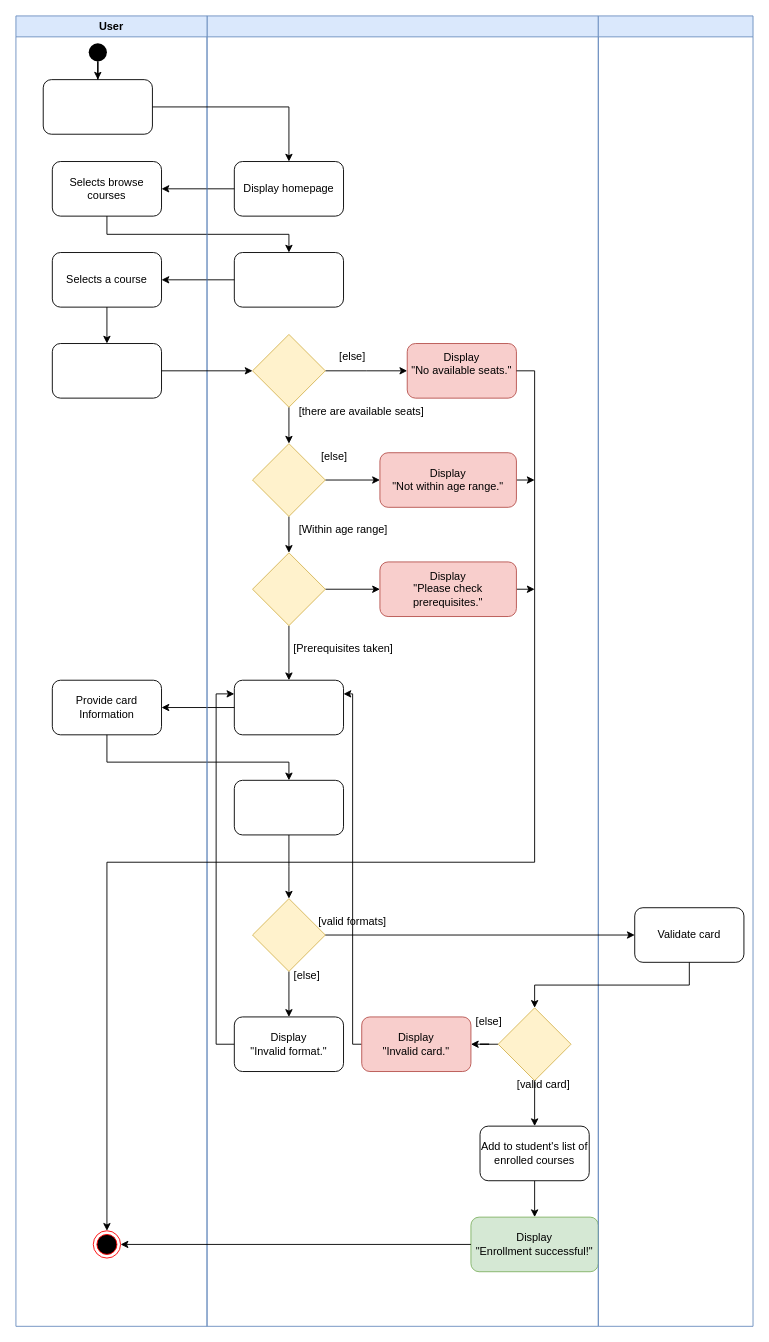
The diagram is 769 pixels wide and 1342 high, and some of its shapes have lost their labels. Here are the shapes that lost their labels. From the top down, the box of each, then its label:
(42, 79, 152, 134): Start Session
(233, 252, 344, 307): Display available courses
(51, 343, 162, 398): Selects Enroll
(206, 15, 598, 1326): SkillForge System
(597, 15, 753, 1326): Bank
(233, 679, 344, 735): Request Payment
(233, 779, 344, 835): Process details
